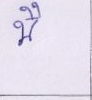au_matra: (22, 3, 44, 35)
